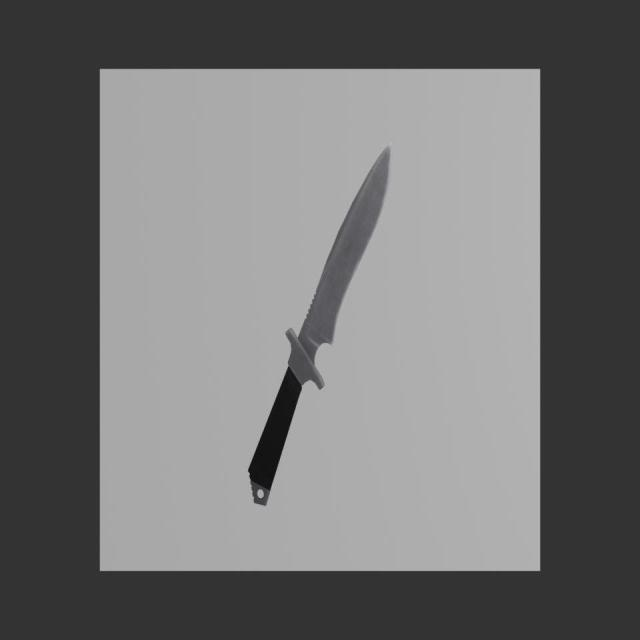knife: (248, 366, 302, 506)
